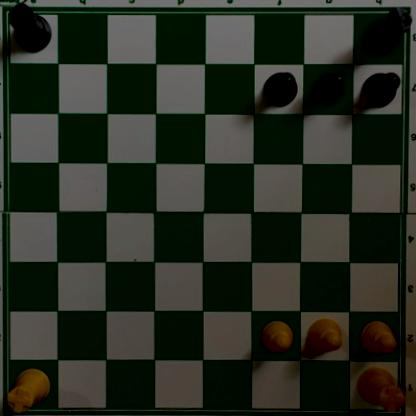black-pawn: (309, 69, 347, 110), (360, 70, 402, 107), (262, 70, 299, 108)
black-rook: (362, 5, 413, 58), (6, 2, 53, 52)
white-pawn: (307, 319, 344, 353), (359, 321, 397, 354), (261, 319, 294, 355)
white-rook: (3, 366, 53, 416), (357, 366, 406, 414)
